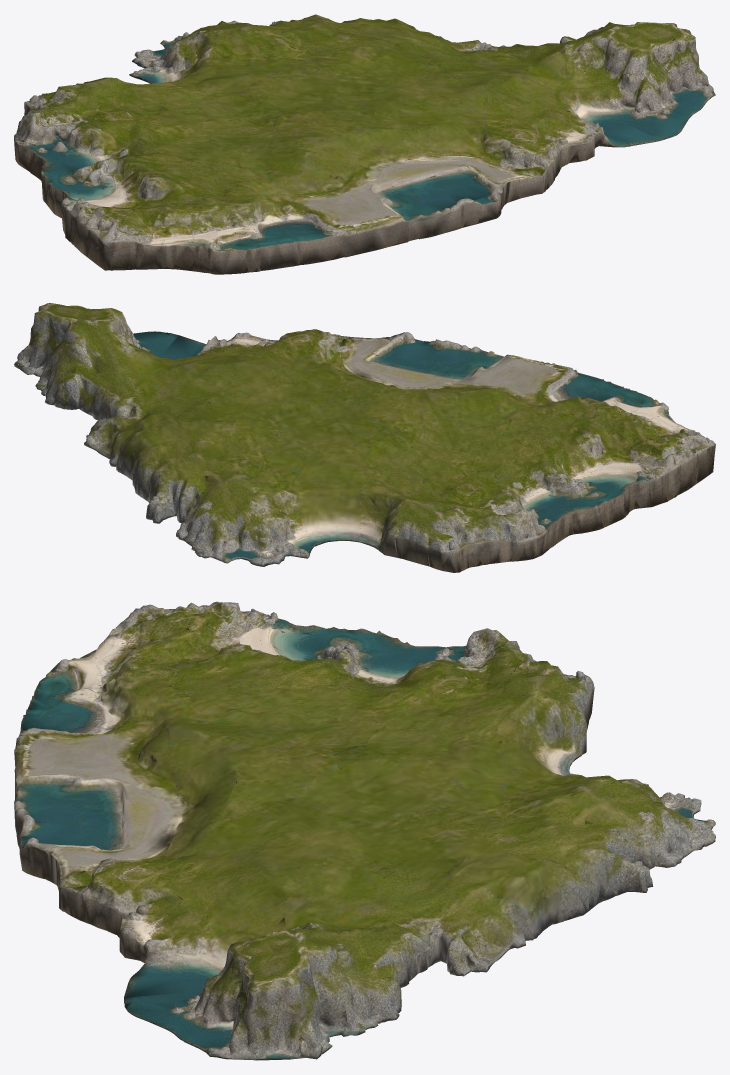
Rendered from island-terrain.glb.
The picture shows the model from 3 angles, top to bottom: view 1: azimuth 30°, elevation 25°; view 2: azimuth 150°, elevation 25°; view 3: azimuth 270°, elevation 25°; orthographic projection. The views are drawn at different scales.
Parts seen in each view (by area): view 1: Mesh_0; view 2: Mesh_0; view 3: Mesh_0.
Boxes of the visible parts, x1=… form: Mesh_0: x1=14, y1=14, x2=715, y2=274; Mesh_0: x1=14, y1=303, x2=715, y2=572; Mesh_0: x1=14, y1=601, x2=715, y2=1060.
Size of the model in its own units: 1.9 by 0.1696 by 1.36.
1 material, 1 textured.
